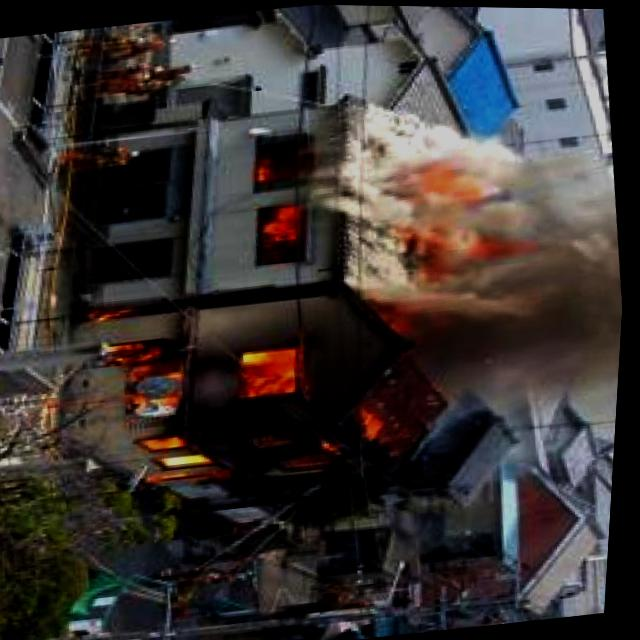helmet: (73, 276, 364, 511), (254, 202, 315, 262)
no_helmet: (323, 69, 637, 419)
